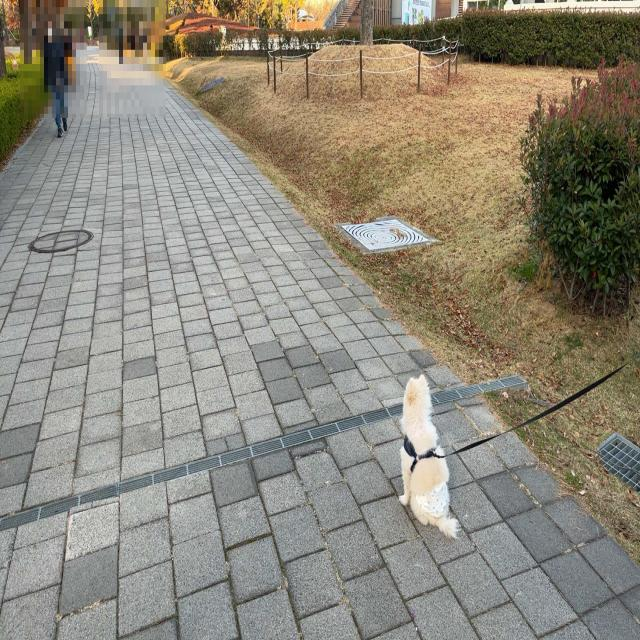Dog: (399, 375, 461, 541)
